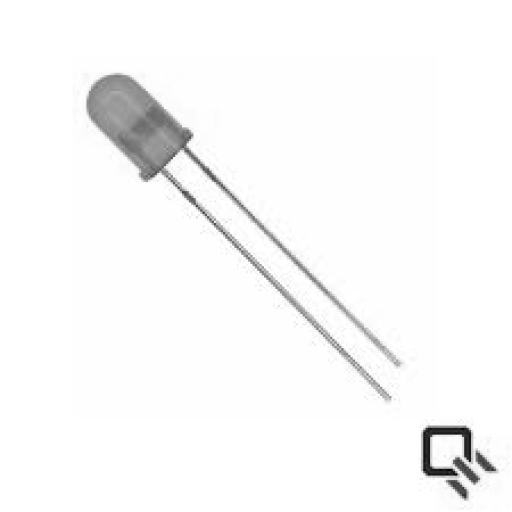LED: (60, 51, 444, 429)
